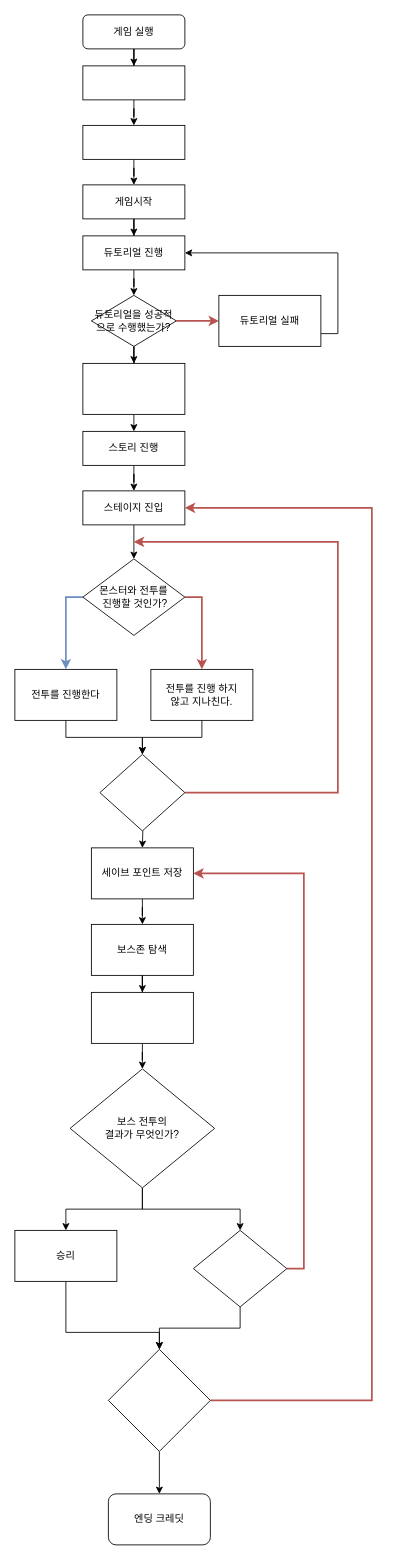
Image size: 394x1560. Some labels were removed from this diagram. The shapes that lost their labels are listed below. From the top down, each one's centre as x and y in pixels, then its label:
At (133,82): "타이틀 화면".
At (133,142): "메인 화면".
At (133,388): "튜로리얼 성공".
At (142,792): "살아서 세이브 존 까지 왔는가?".
At (142,1017): "보스존 입장".
At (240,1268): "패배 사망".
At (159,1400): "최종 보스인가?".
